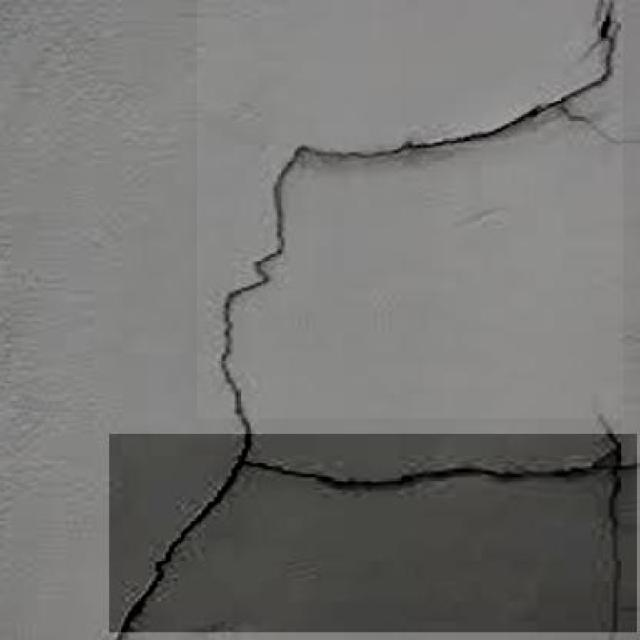Crack: (217, 0, 640, 434), (110, 431, 638, 640)
